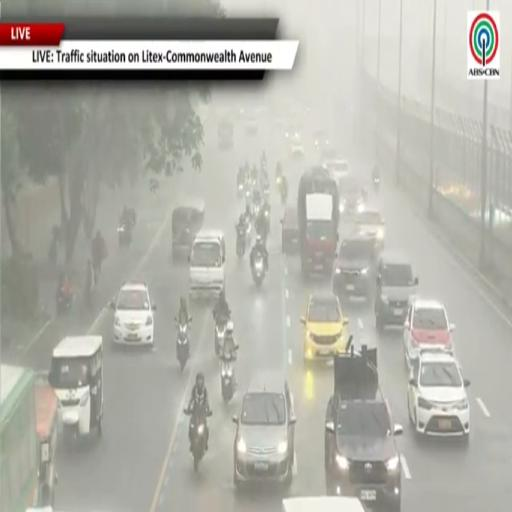bus: (0, 365, 38, 511)
car: (233, 371, 296, 489), (408, 349, 470, 439), (403, 298, 455, 367), (375, 251, 419, 331), (301, 294, 348, 362), (333, 234, 377, 298), (111, 283, 155, 346), (189, 230, 226, 298), (337, 173, 367, 216), (355, 206, 384, 249), (282, 496, 365, 511), (282, 206, 299, 253), (323, 158, 348, 181), (313, 130, 329, 153), (291, 134, 304, 157), (246, 114, 258, 136)
motorcycle: (189, 411, 212, 472), (175, 317, 191, 371), (221, 357, 236, 403), (215, 318, 229, 356), (252, 254, 265, 286), (57, 291, 74, 314), (118, 222, 132, 247), (48, 237, 59, 268), (236, 227, 246, 258), (264, 206, 270, 233), (246, 220, 252, 246), (280, 186, 287, 205), (253, 203, 260, 218), (238, 182, 244, 198), (373, 178, 380, 191), (263, 185, 269, 200), (276, 174, 282, 188), (245, 187, 251, 201)
truck: (325, 336, 402, 511), (297, 166, 339, 277)
